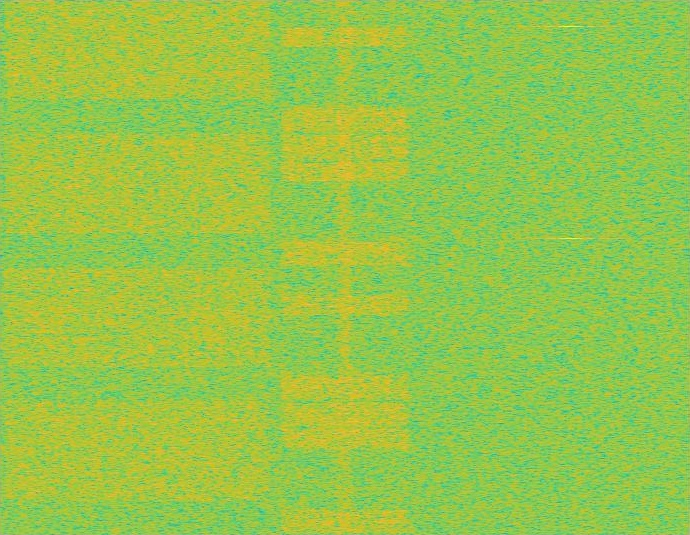5G: (0, 0, 276, 534)
DSSS: (336, 0, 354, 534)
LTE: (276, 0, 414, 534)
Radar: (564, 0, 578, 534)
